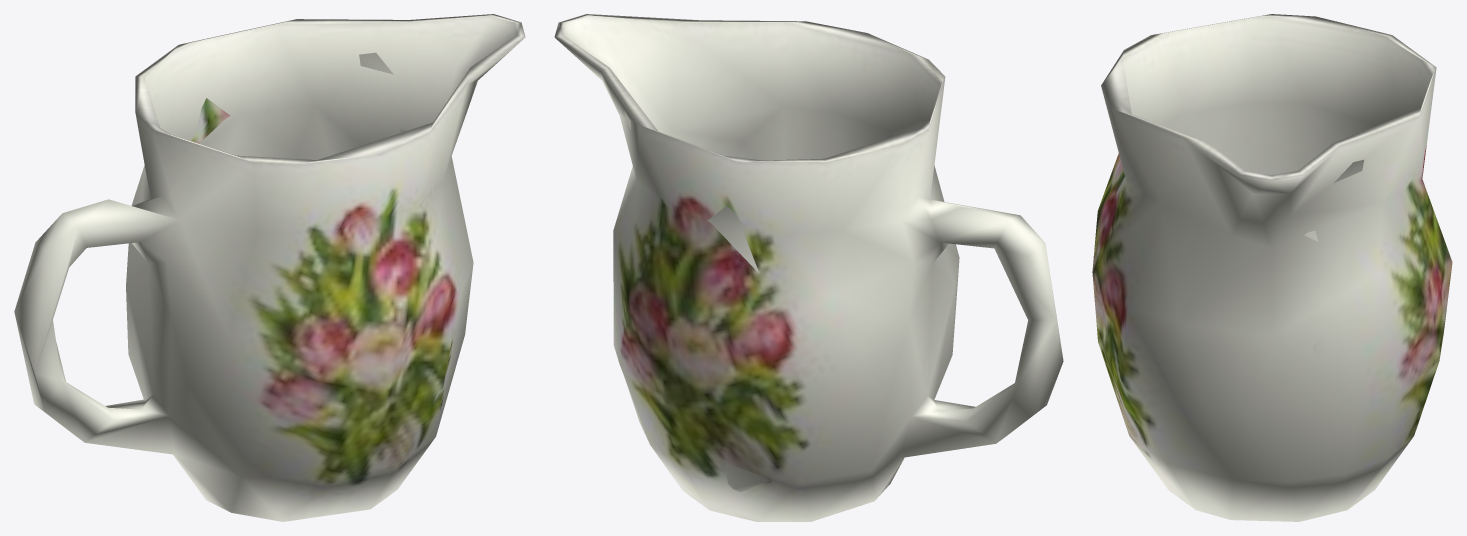
The model's file is ph_jug.glb.
The picture shows the model from 3 angles, left to right: view 1: azimuth 30°, elevation 25°; view 2: azimuth 150°, elevation 25°; view 3: azimuth 270°, elevation 25°; orthographic projection. The views are drawn at different scales.
Parts seen in each view (by area): view 1: jug_01; view 2: jug_01; view 3: jug_01.
Boxes of the visible parts, x1,y1,x2,y2 form: jug_01: (14, 14, 525, 521); jug_01: (554, 14, 1063, 521); jug_01: (1092, 14, 1452, 521).
Bounding box in the file's own units: 0.2747 × 0.2103 × 0.1668.
1 material, 1 textured.
